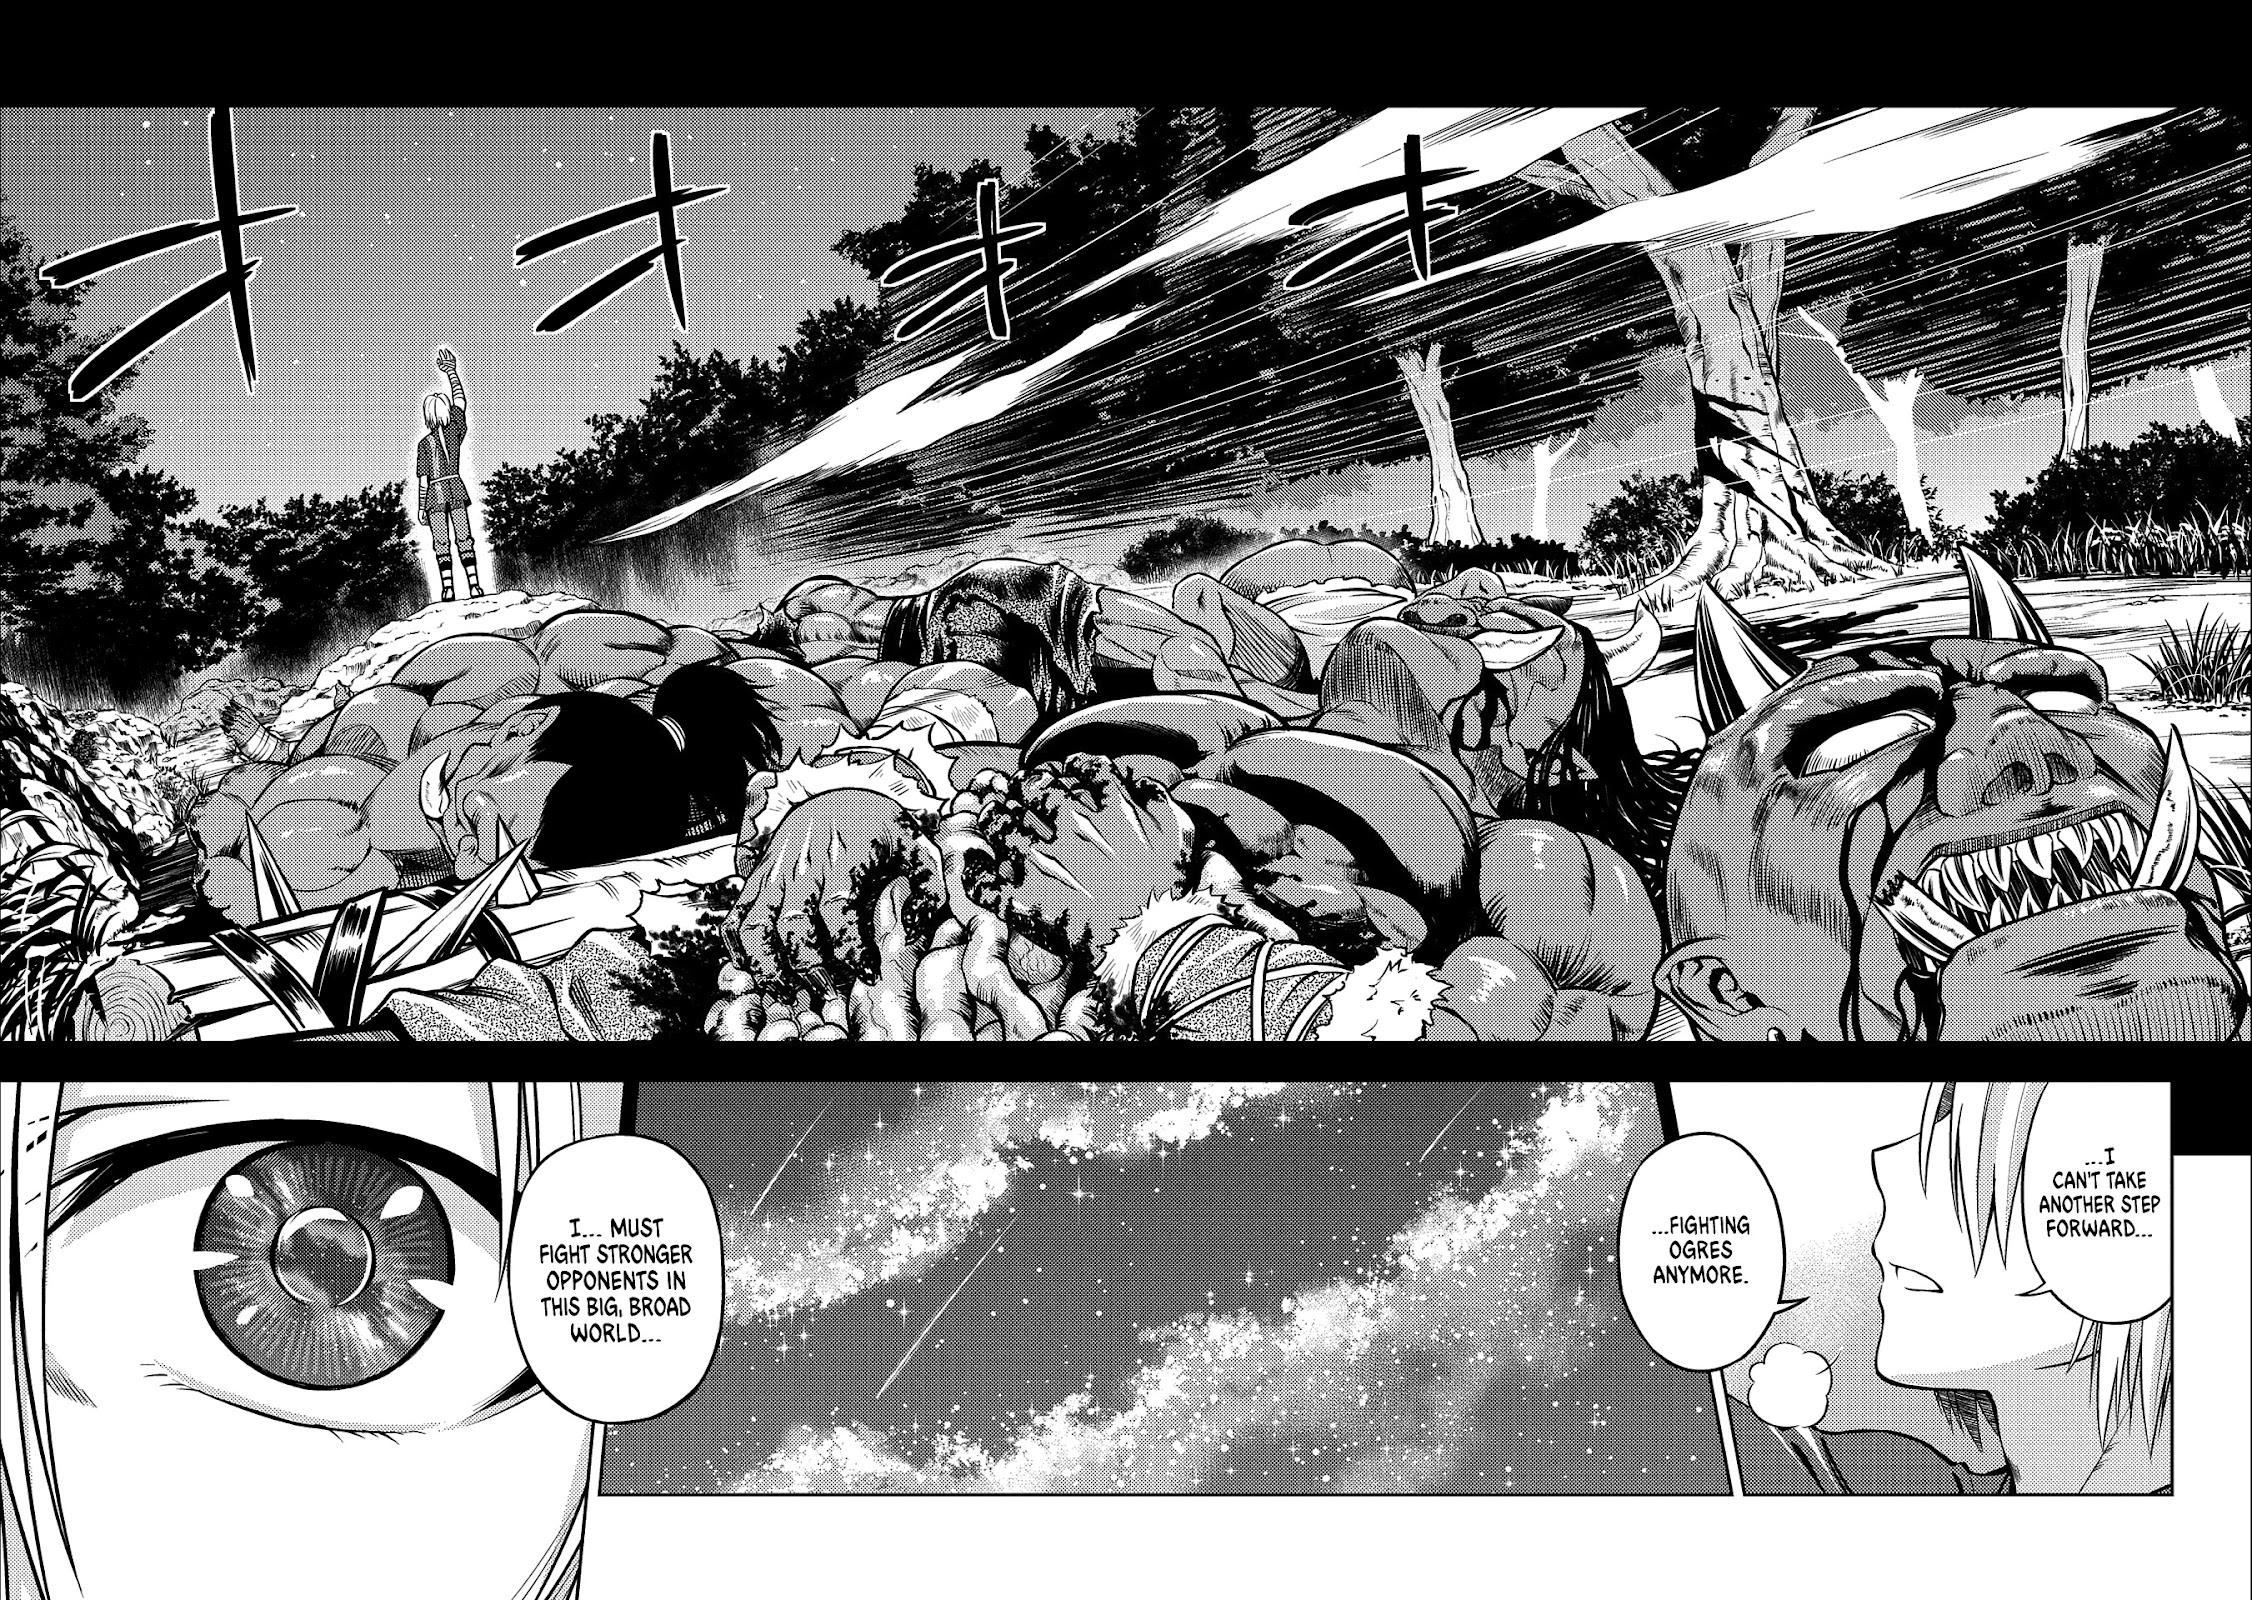Bubble: (507, 1131, 727, 1430), (1615, 1127, 1793, 1377), (2022, 1077, 2169, 1323)
